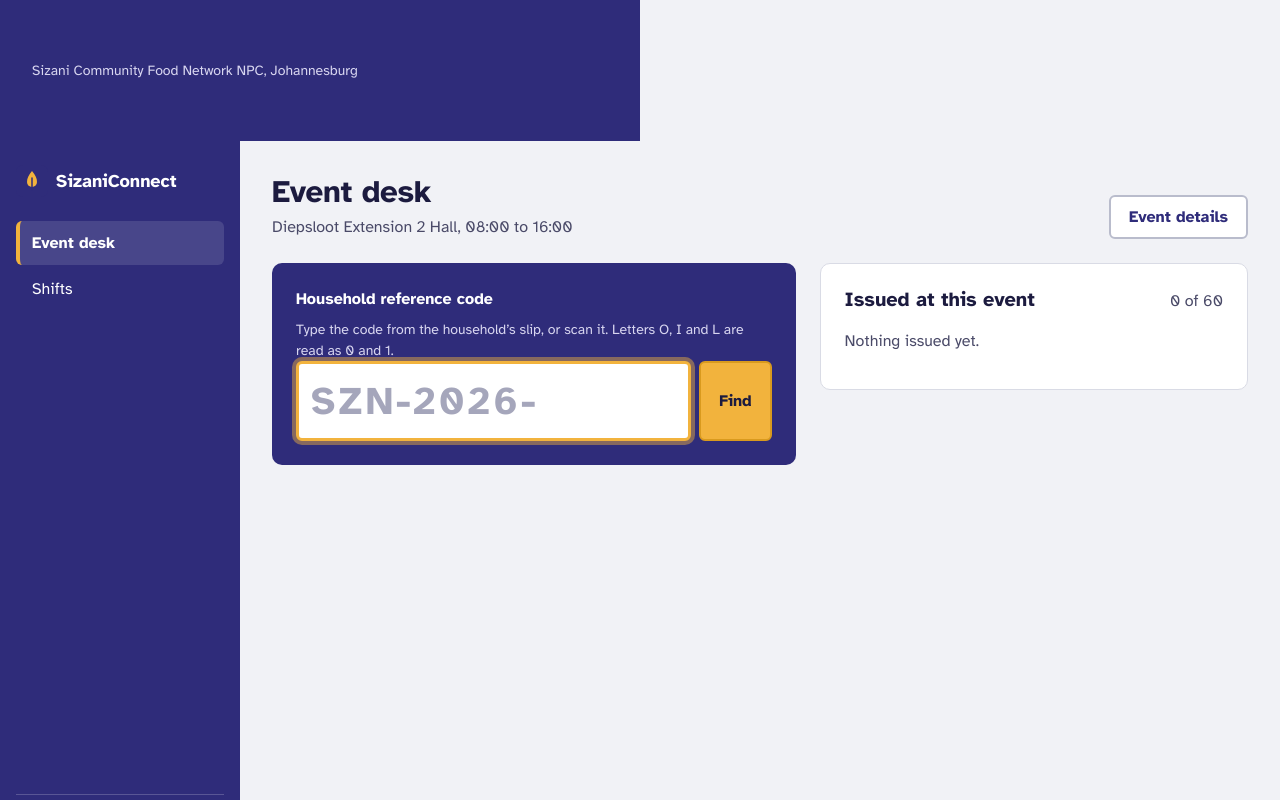
event desk › stops the volunteer when a household has already collected
(page scrolled)
Type "szn-2026-7k4qx2" into the field labelled "Household reference code" at (494, 401), box [296,360,691,441]
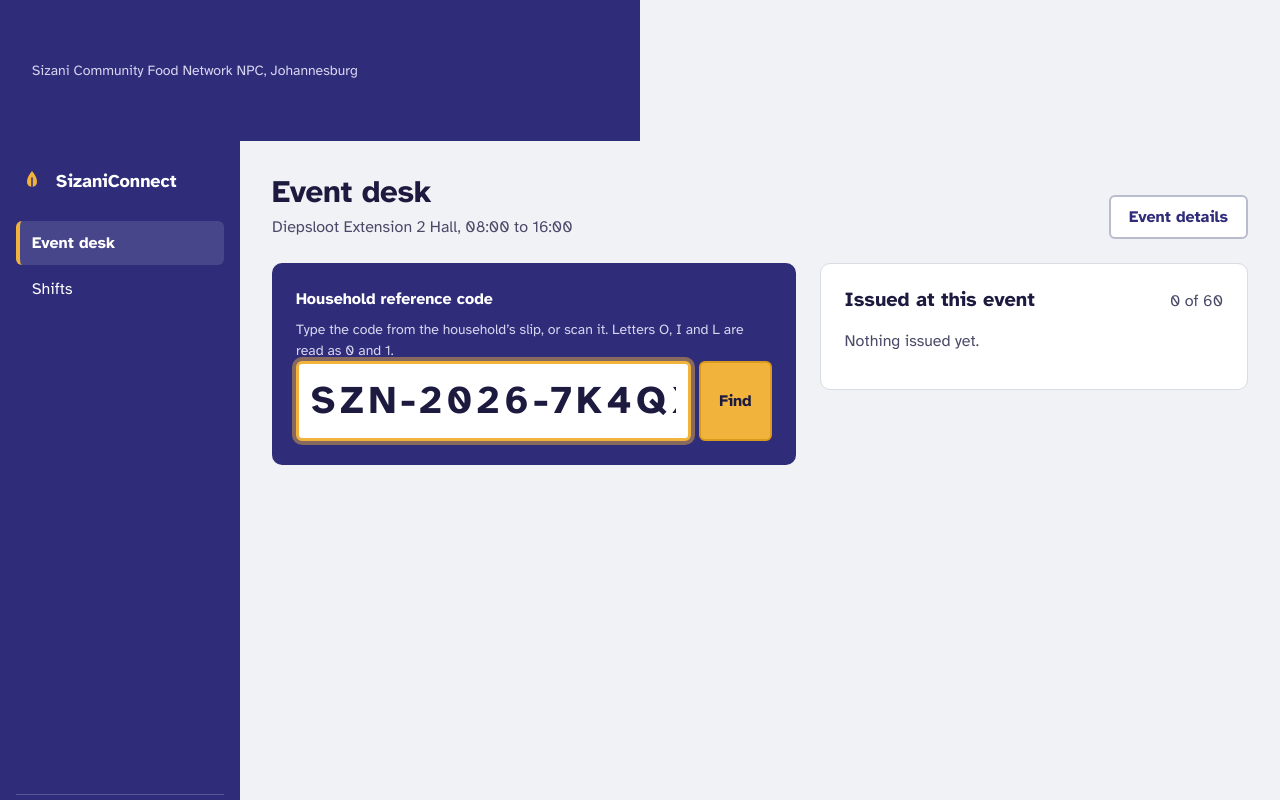
Click the button "Find" at (735, 401), box [699,360,772,441]
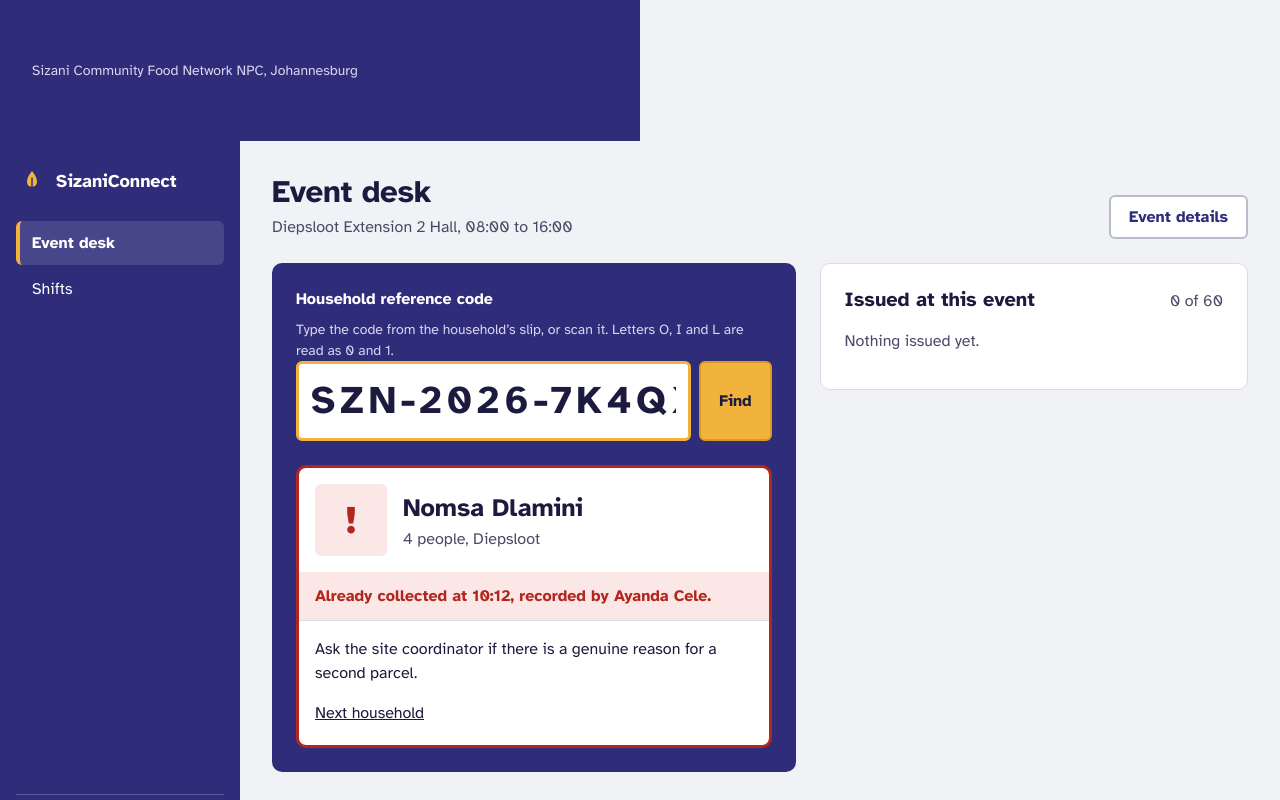
Result: the message shows "Already collected" at [315,586,711,606]
Result: the message shows "Ayanda Cele" at [315,586,711,606]
